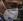with_mask: (2, 1, 23, 21)
